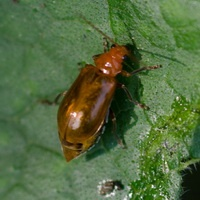insect: (57, 15, 161, 161)
